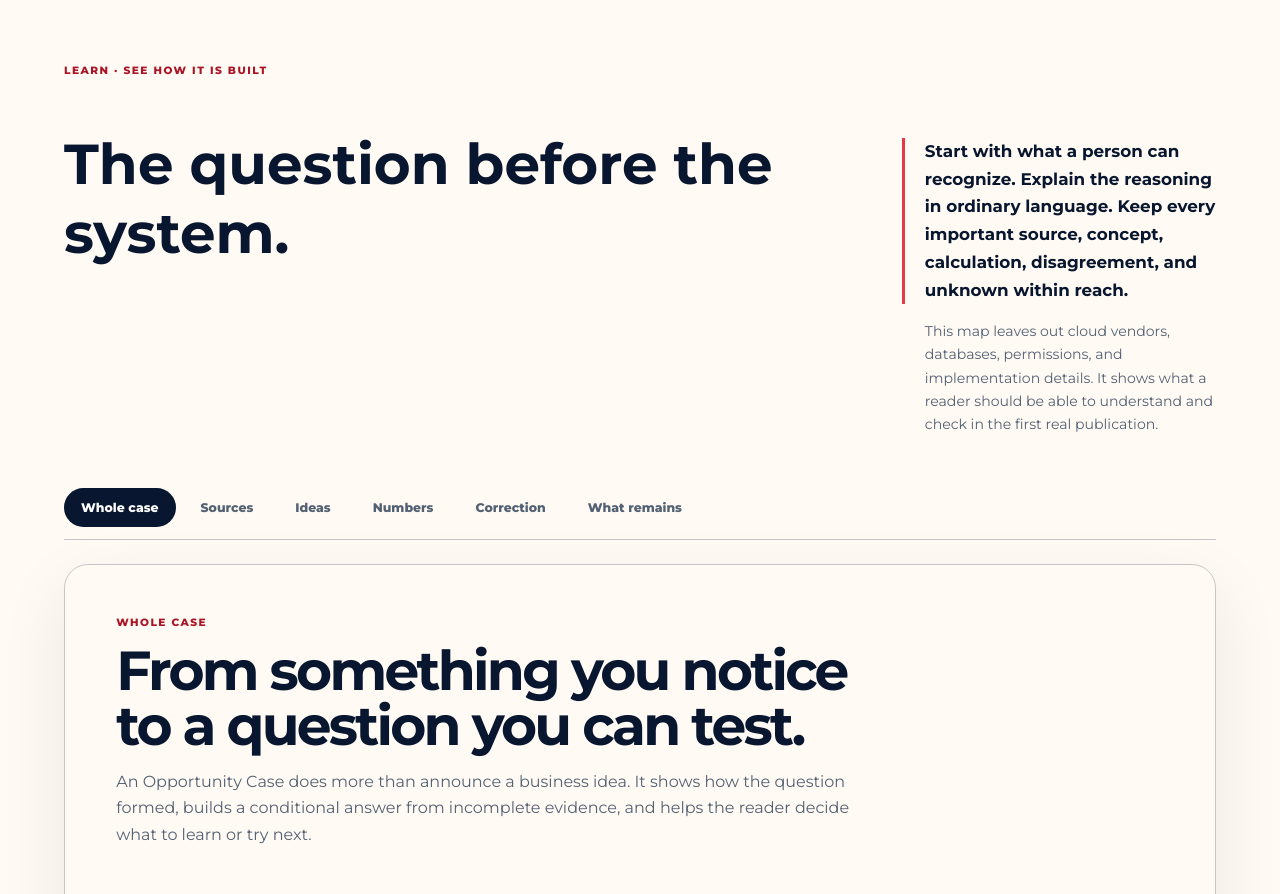
Test: SystemMapPage › switches between focused explanations and exposes no editing actions
The width and height of the screenshot is (1280, 894).
Expected: the heading "From something you notice to a question you can test." is shown, [116,643,876,753]
Click the tab "Correction": (511, 507) [458,488,563,527]
(page scrolled)
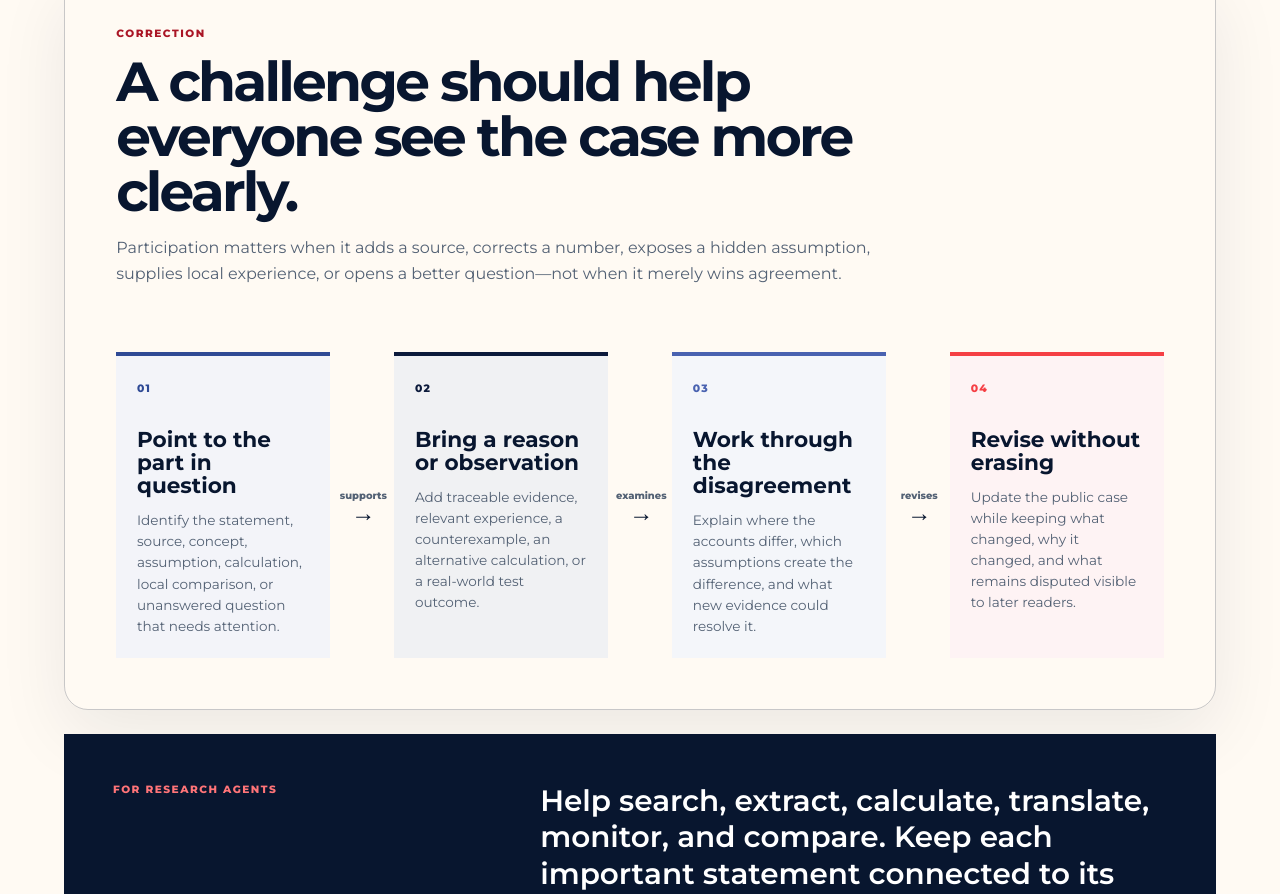
Result: the heading "A challenge should help everyone see the case more clearly." is shown at [116,54,876,219]
Result: the heading "Revise without erasing" is shown at [971,428,1143,474]
